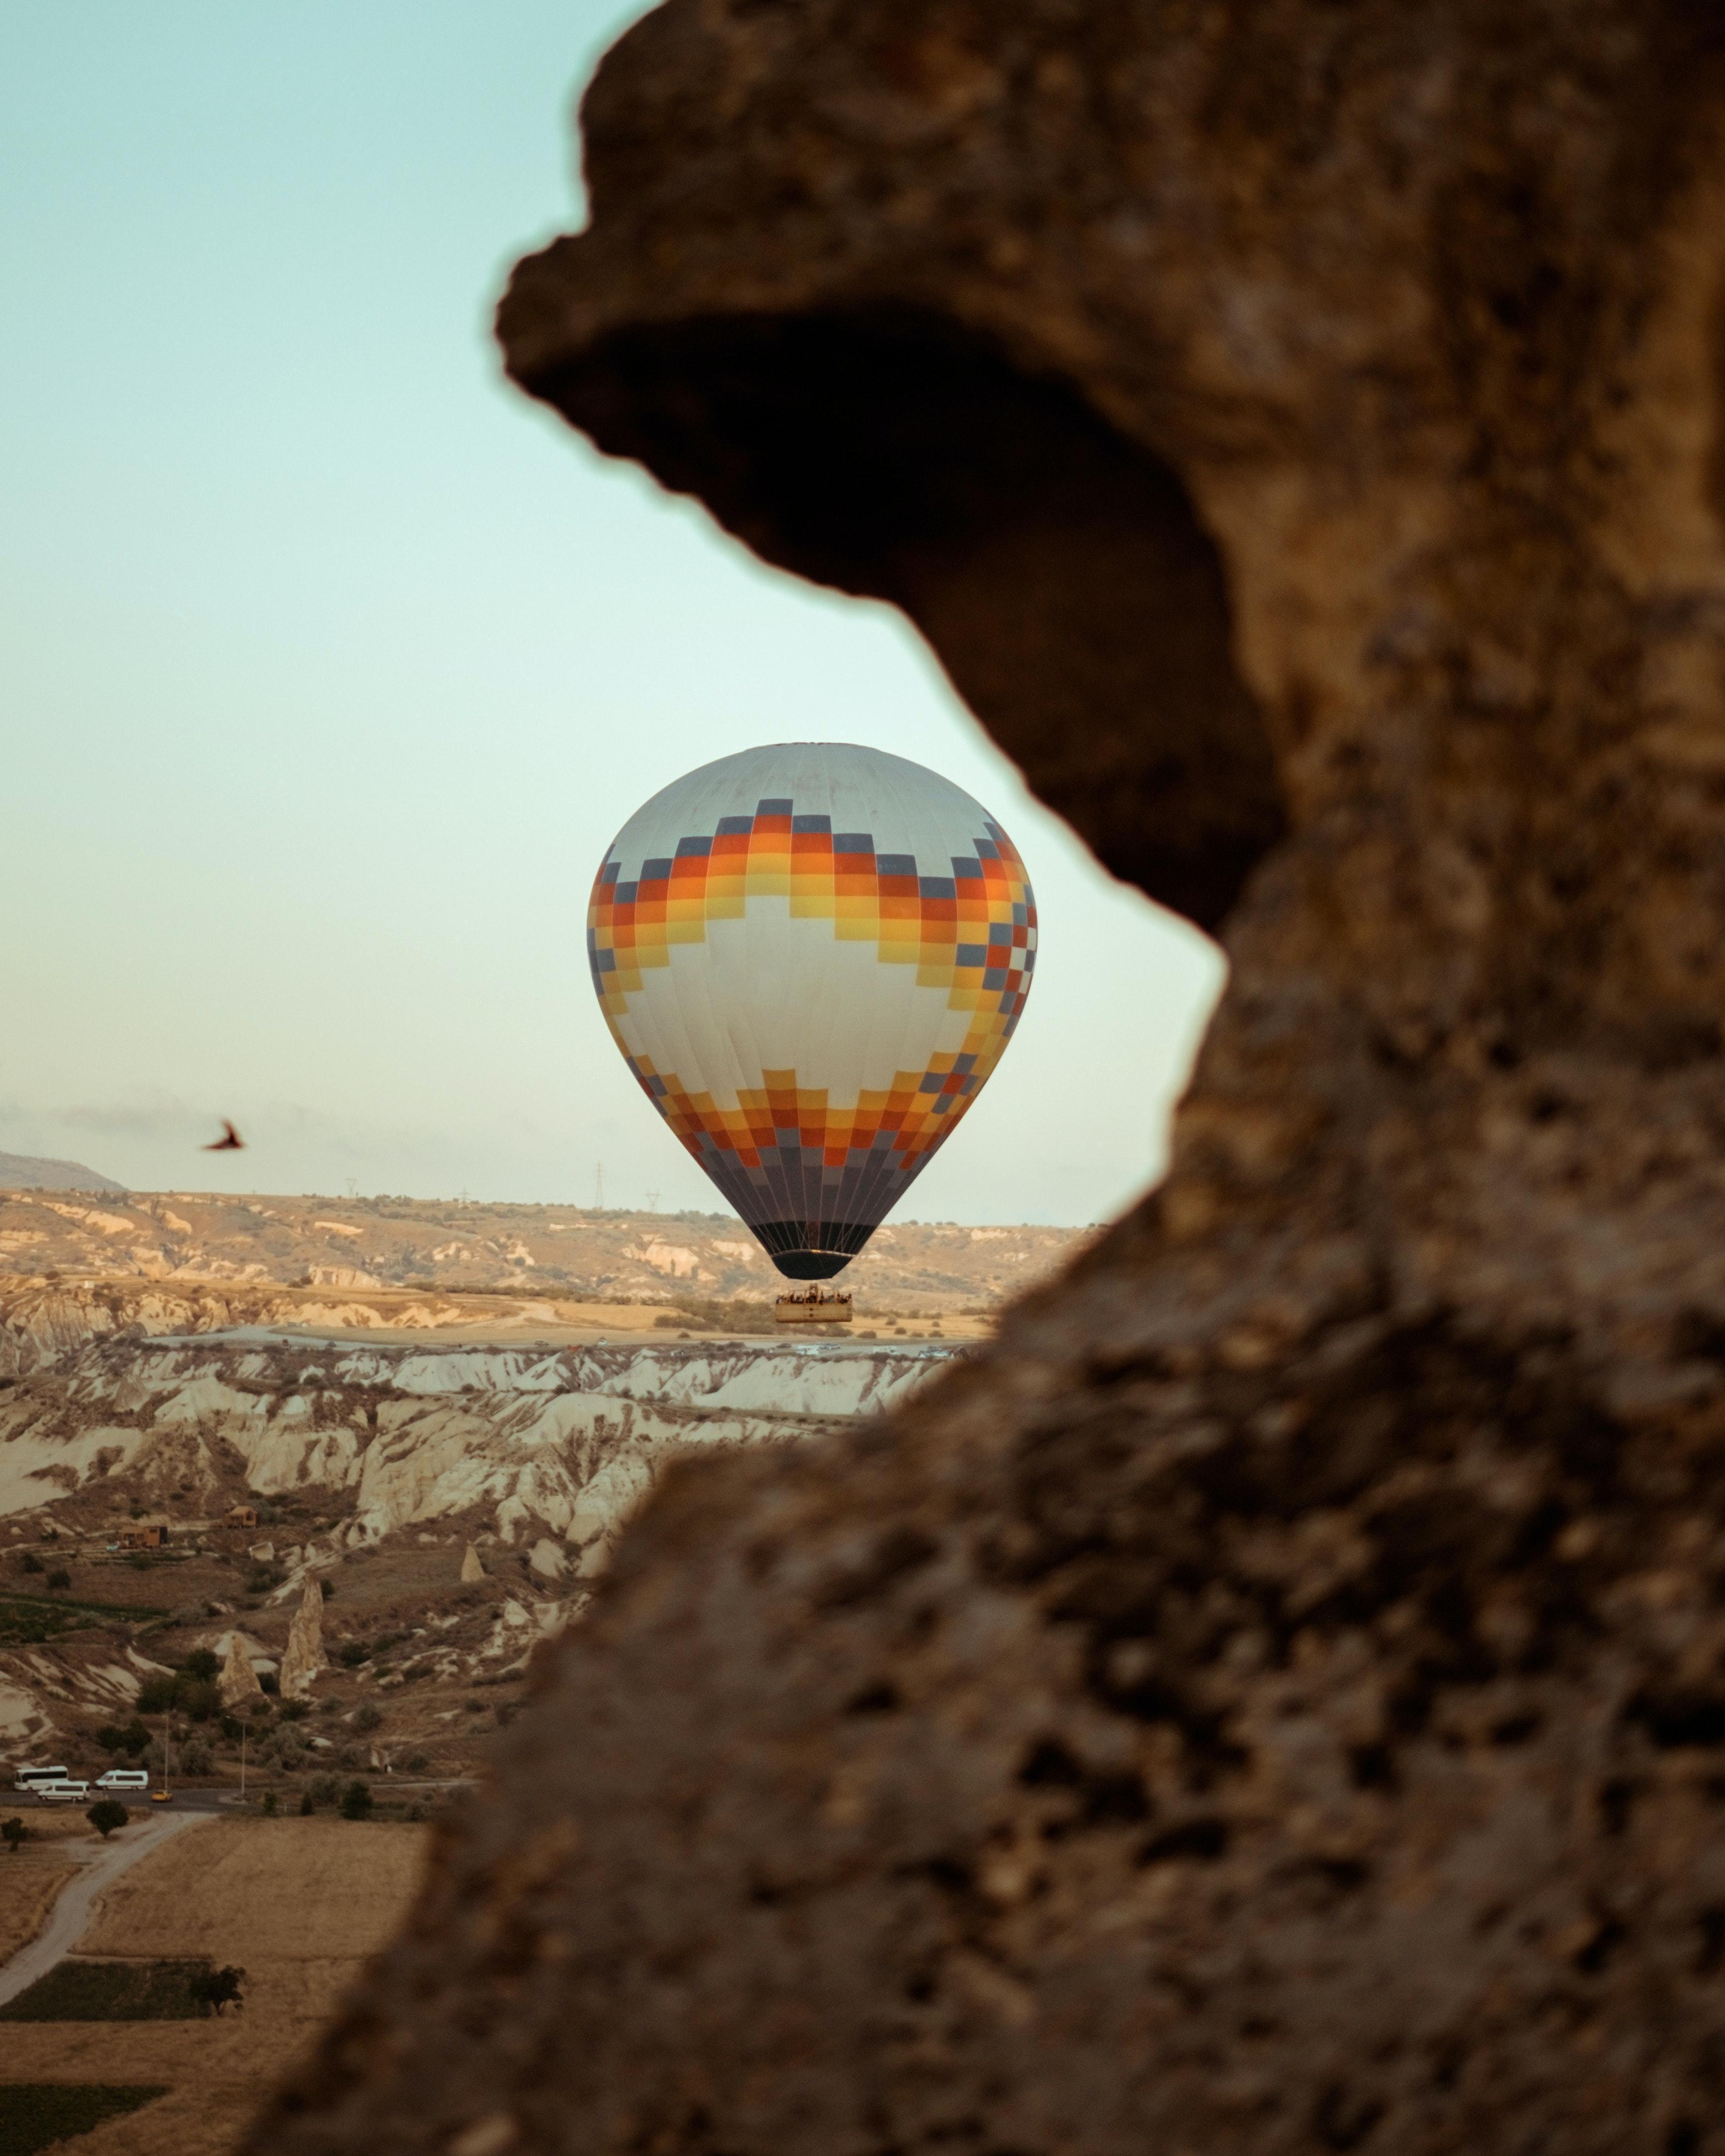hot air ballon: (554, 716, 1067, 1348)
